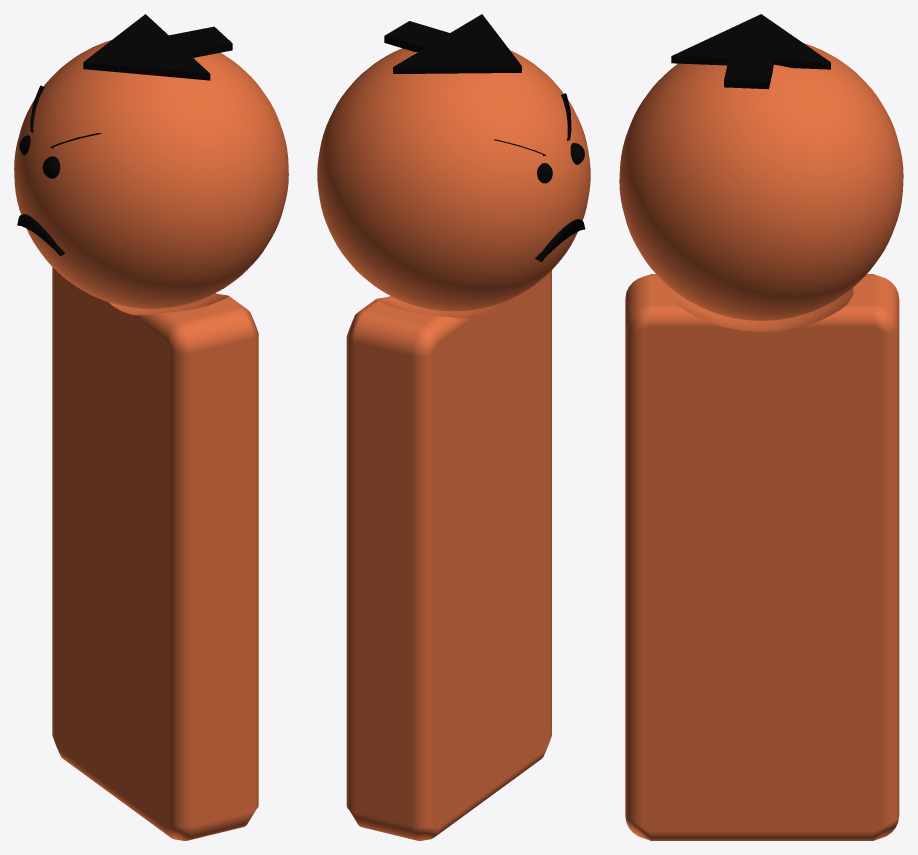
The model's file is beige_angry.obj.
The picture shows the model from 3 angles, left to right: view 1: azimuth 30°, elevation 25°; view 2: azimuth 150°, elevation 25°; view 3: azimuth 270°, elevation 25°; orthographic projection. The views are drawn at different scales.
Parts seen in each view (by area): view 1: 1_Curve.002_Curve.003, 5.002_Curve.002_Curve.003_5.002_Curve.002_Curve.003; view 2: 1_Curve.002_Curve.003, 5.002_Curve.002_Curve.003_5.002_Curve.002_Curve.003; view 3: 1_Curve.002_Curve.003, 5.002_Curve.002_Curve.003_5.002_Curve.002_Curve.003.
Boxes of the visible parts, x1,y1,x2,y2 form: 1_Curve.002_Curve.003: (14,40,288,840); 5.002_Curve.002_Curve.003_5.002_Curve.002_Curve.003: (17,14,232,256); 1_Curve.002_Curve.003: (317,48,590,840); 5.002_Curve.002_Curve.003_5.002_Curve.002_Curve.003: (384,14,585,261); 1_Curve.002_Curve.003: (619,43,903,840); 5.002_Curve.002_Curve.003_5.002_Curve.002_Curve.003: (671,14,830,89).
Bounding box in the file's own units: 0.1677 × 0.4993 × 0.1661.
